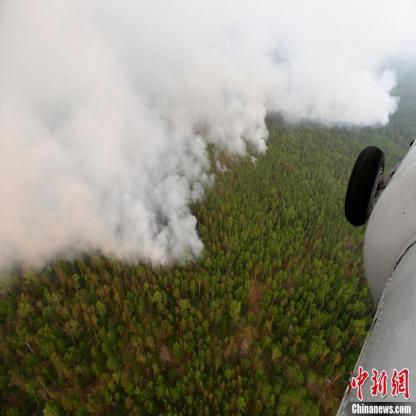smoke: (0, 2, 103, 253), (100, 3, 156, 248), (154, 1, 216, 130), (280, 58, 400, 120), (276, 5, 409, 57), (198, 83, 271, 154), (220, 0, 272, 76), (154, 132, 197, 210), (152, 216, 198, 258)
